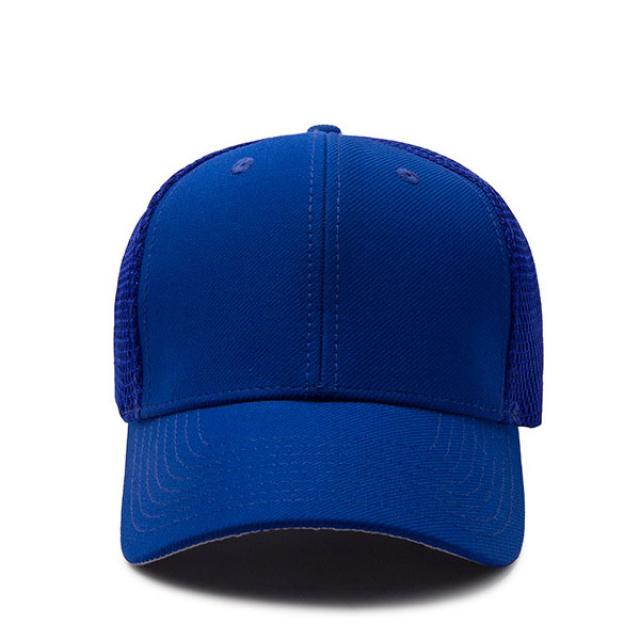no_helmet: (89, 81, 575, 598)
